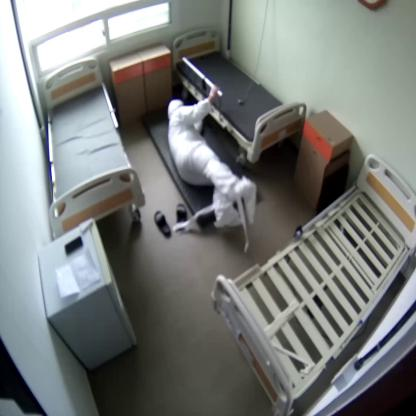Person: (167, 85, 256, 229)
